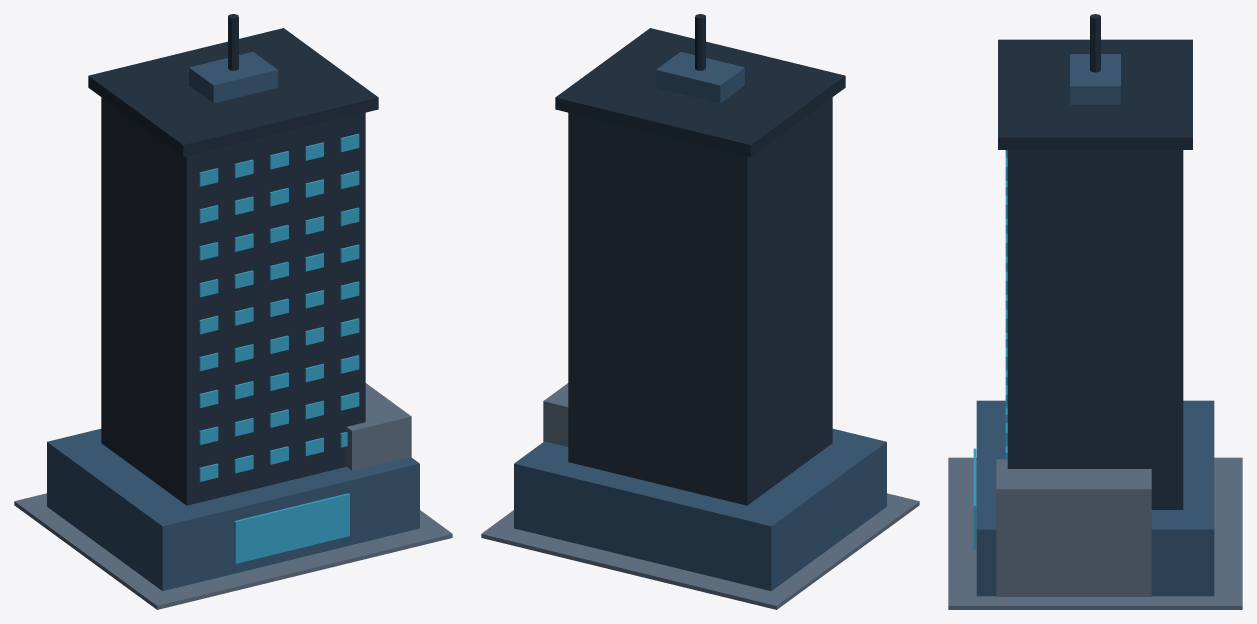
The model's file is office-tower.obj.
3 views of the same model, side by side, from view 1: azimuth 30°, elevation 25°; view 2: azimuth 150°, elevation 25°; view 3: azimuth 270°, elevation 25° (orthographic). The views are drawn at different scales.
Visible parts, largest first — view 1: Tower, Podium, Roof, Window, Plaza, Glass lobby, Side annex, Mechanical plant, Antenna; view 2: Tower, Podium, Roof, Plaza, Mechanical plant, Side annex, Antenna; view 3: Tower, Side annex, Roof, Podium, Plaza, Mechanical plant, Window, Antenna, Glass lobby.
Part boxes in pixels (<box>): Tower: <box>101,97,365,505</box>; Podium: <box>47,428,419,591</box>; Roof: <box>88,28,378,156</box>; Window: <box>199,133,359,481</box>; Plaza: <box>14,493,452,609</box>; Glass lobby: <box>234,493,349,563</box>; Side annex: <box>346,383,411,470</box>; Mechanical plant: <box>189,52,277,103</box>; Antenna: <box>228,14,238,70</box>; Tower: <box>568,97,832,505</box>; Podium: <box>514,428,886,591</box>; Roof: <box>555,28,845,156</box>; Plaza: <box>481,493,919,609</box>; Mechanical plant: <box>656,52,744,103</box>; Side annex: <box>543,383,568,446</box>; Antenna: <box>695,14,705,70</box>; Tower: <box>1007,150,1183,509</box>; Side annex: <box>996,459,1151,596</box>; Roof: <box>998,39,1192,149</box>; Podium: <box>976,400,1214,596</box>; Plaza: <box>948,457,1242,609</box>; Mechanical plant: <box>1070,54,1120,104</box>; Window: <box>1005,150,1007,459</box>; Antenna: <box>1090,14,1100,72</box>; Glass lobby: <box>973,448,976,549</box>.
Bounding box in the file's own units: 6.2 × 10.13 × 5.2.
